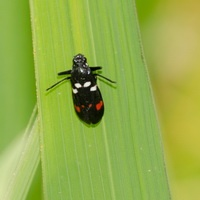insect: (46, 54, 115, 123)
